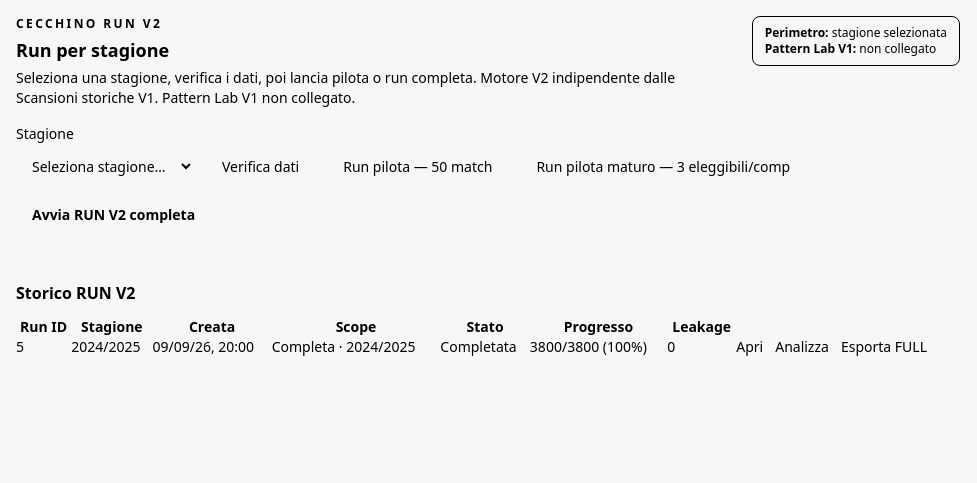
Test: CecchinoRunV2Section › con stagione ready mostra i dati disponibili e abilita i pulsanti
Expected: the row with test id "run-v2-row-5" is shown, [16, 337, 960, 357]
Step 1. Select "2024/2025" in the dropdown with test id "run-v2-season-select" → (105, 166), box [16, 148, 194, 185]
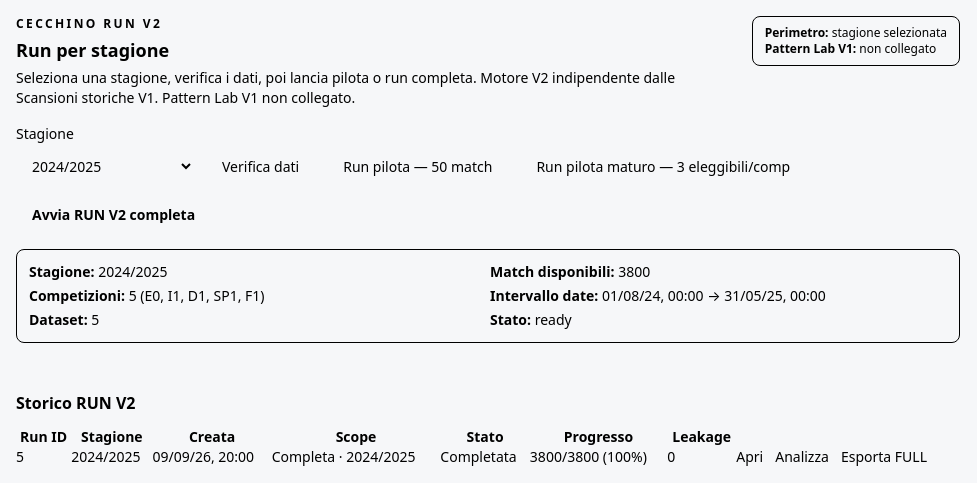
Expected: the element with test id "run-v2-preflight-panel" is shown, [16, 249, 960, 343]
Expected: the element with test id "run-v2-preflight-panel" shows "3800", [618, 262, 650, 281]
Expected: the element with test id "run-v2-preflight-panel" shows "2024/2025", [98, 262, 168, 281]
